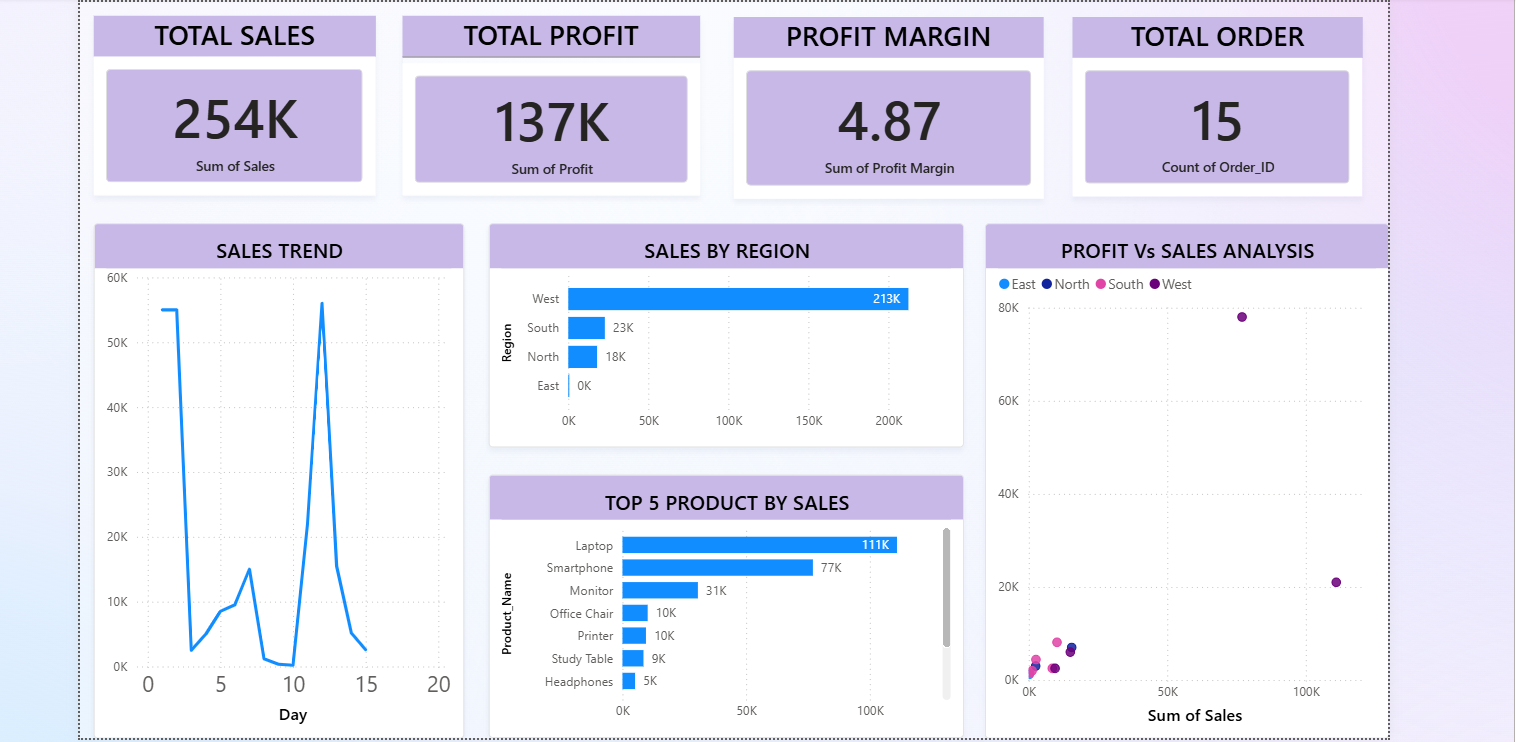

The page's visual inventory and layout, read from the dashboard file:
{"tool":"powerbi","page":{"name":"Data Analysis","canvas":[1280,720],"ordinal":0},"visuals":[{"type":"cardVisual","title":"TOTAL SALES","fields":{"Data":["Sum(Table47.Sales)"]},"box":[13.7,13.7,275.8,175.6],"z":0},{"type":"cardVisual","title":"TOTAL PROFIT","fields":{"Data":["Sum(Table47.Profit)"]},"box":[310.1,13.7,290.9,175.6],"z":1000},{"type":"cardVisual","title":"PROFIT MARGIN ","fields":{"Data":["Sum(Table47.Profit Margin)"]},"box":[620.2,13.7,303.3,177],"z":2000},{"type":"cardVisual","title":"TOTAL ORDER","fields":{"Data":["Count(Table47.Order_ID)"]},"box":[948.2,15.1,282.7,175.6],"z":3000},{"type":"lineChart","title":"SALES TREND","fields":{"Y":["Sum(Table47.Sales)"],"Category":["Table47.Order_Date.Variation.Date Hierarchy.Day"]},"box":[13.7,216.8,362.3,503.6],"z":4000},{"type":"clusteredBarChart","title":"SALES BY REGION","fields":{"Y":["Sum(Table47.Sales)"],"Category":["Table36.Region"]},"box":[399.3,216.8,465.2,219.6],"z":5000},{"type":"clusteredBarChart","title":"TOP 5 PRODUCT BY SALES","fields":{"Category":["Table7.Product_Name"],"Y":["Sum(Table47.Sales)"]},"box":[399.3,462.4,465.2,258],"z":6000},{"type":"scatterChart","title":"PROFIT Vs SALES ANALYSIS","fields":{"X":["Sum(Table47.Sales)"],"Y":["Sum(Table47.Profit)"],"Series":["Table36.Region"],"Category":["Table7.Product_Name"]},"box":[885.1,216.8,395.2,503.6],"z":7000}]}

Visuals, with their boxes on the page's 1280x720 design canvas (x1, y1, x2, y2). These are canvas units, not pixel positions in the 1516x742 screenshot, which may show the page scaled, cropped or inside an application window:
"TOTAL SALES" cardVisual: {"left": 14, "top": 14, "right": 290, "bottom": 189}
"TOTAL PROFIT" cardVisual: {"left": 310, "top": 14, "right": 601, "bottom": 189}
"PROFIT MARGIN " cardVisual: {"left": 620, "top": 14, "right": 924, "bottom": 191}
"TOTAL ORDER" cardVisual: {"left": 948, "top": 15, "right": 1231, "bottom": 191}
"SALES TREND" lineChart: {"left": 14, "top": 217, "right": 376, "bottom": 720}
"SALES BY REGION" clusteredBarChart: {"left": 399, "top": 217, "right": 864, "bottom": 436}
"TOP 5 PRODUCT BY SALES" clusteredBarChart: {"left": 399, "top": 462, "right": 864, "bottom": 720}
"PROFIT Vs SALES ANALYSIS" scatterChart: {"left": 885, "top": 217, "right": 1280, "bottom": 720}
